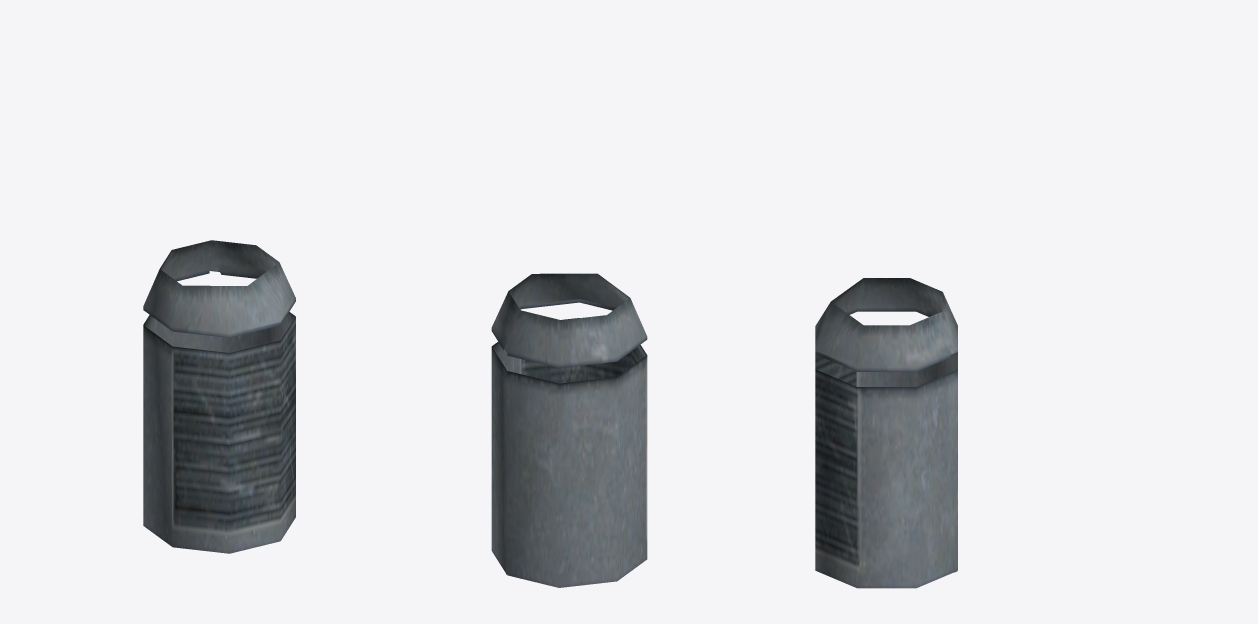
The model's file is eqp_tool_retrofit_kit_l1.fbx.
3 views of the same model, side by side, from view 1: azimuth 30°, elevation 25°; view 2: azimuth 150°, elevation 25°; view 3: azimuth 270°, elevation 25° (orthographic).
Parts seen in each view (by area): view 1: mesh_node; view 2: mesh_node; view 3: mesh_node.
Part boxes in pixels (x1,y1,x2,y2): mesh_node: (143, 240, 295, 553); mesh_node: (491, 273, 647, 587); mesh_node: (815, 278, 957, 588).
Bounding box in the file's own units: 0.1555 × 0.4121 × 0.3721.
1 material, 1 textured.
